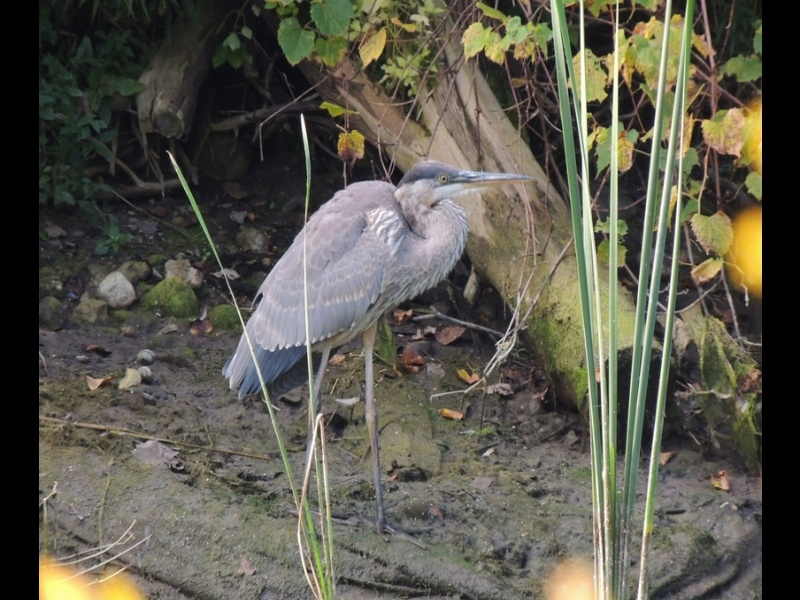heron: (219, 156, 528, 542)
